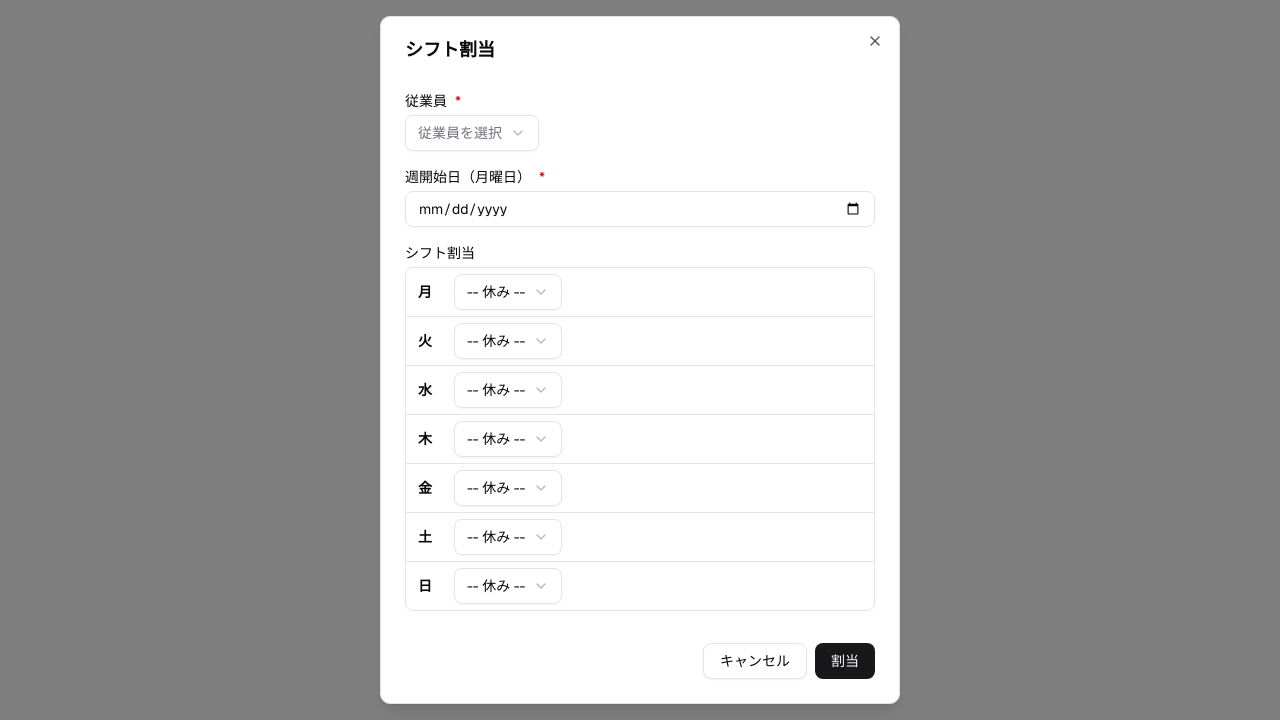
Test: ShiftAssignModal › シフト未割当で送信すると「少なくとも1日はシフトを割り当ててください」エラーが表示される
Note: 何も入力せずに送信ボタンをクリックする
What coordinates should you click on to do the following:
click the button "割当"
I would click on:
 (845, 661)
Its box is [815, 643, 875, 679].
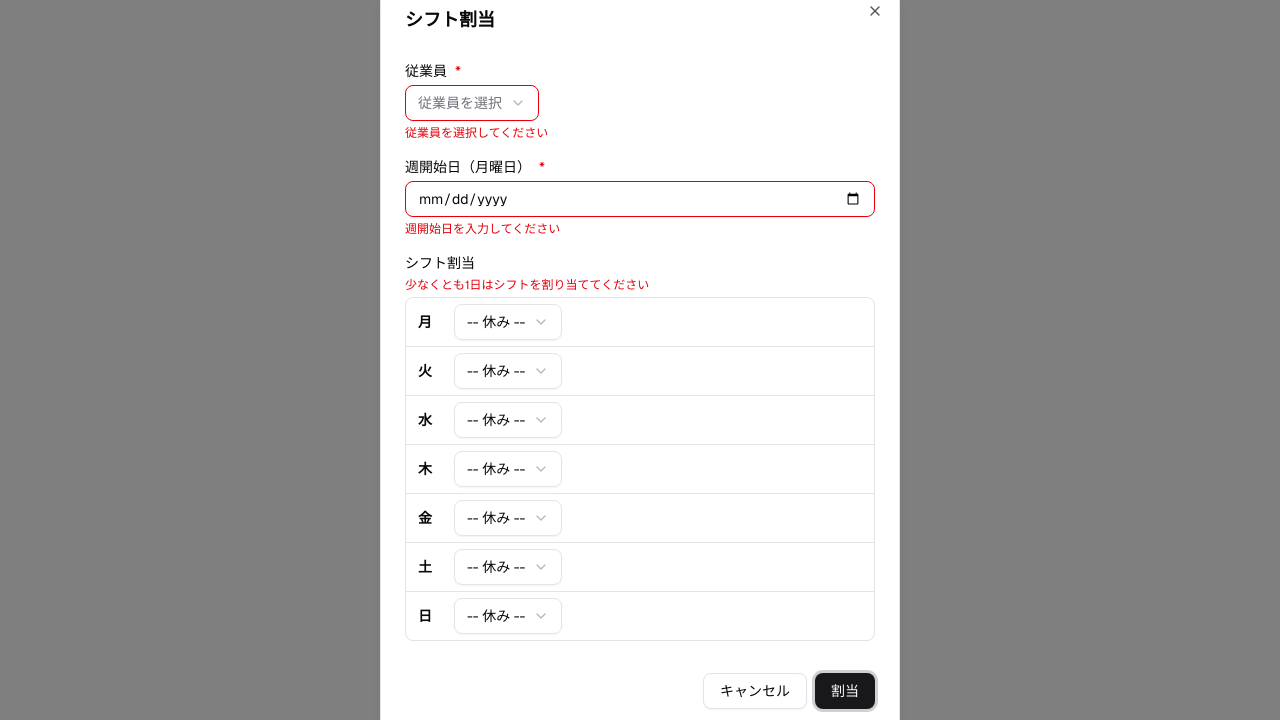
Expected: the text "少なくとも1日はシフトを割り当ててください" is shown, [405, 277, 649, 293]
